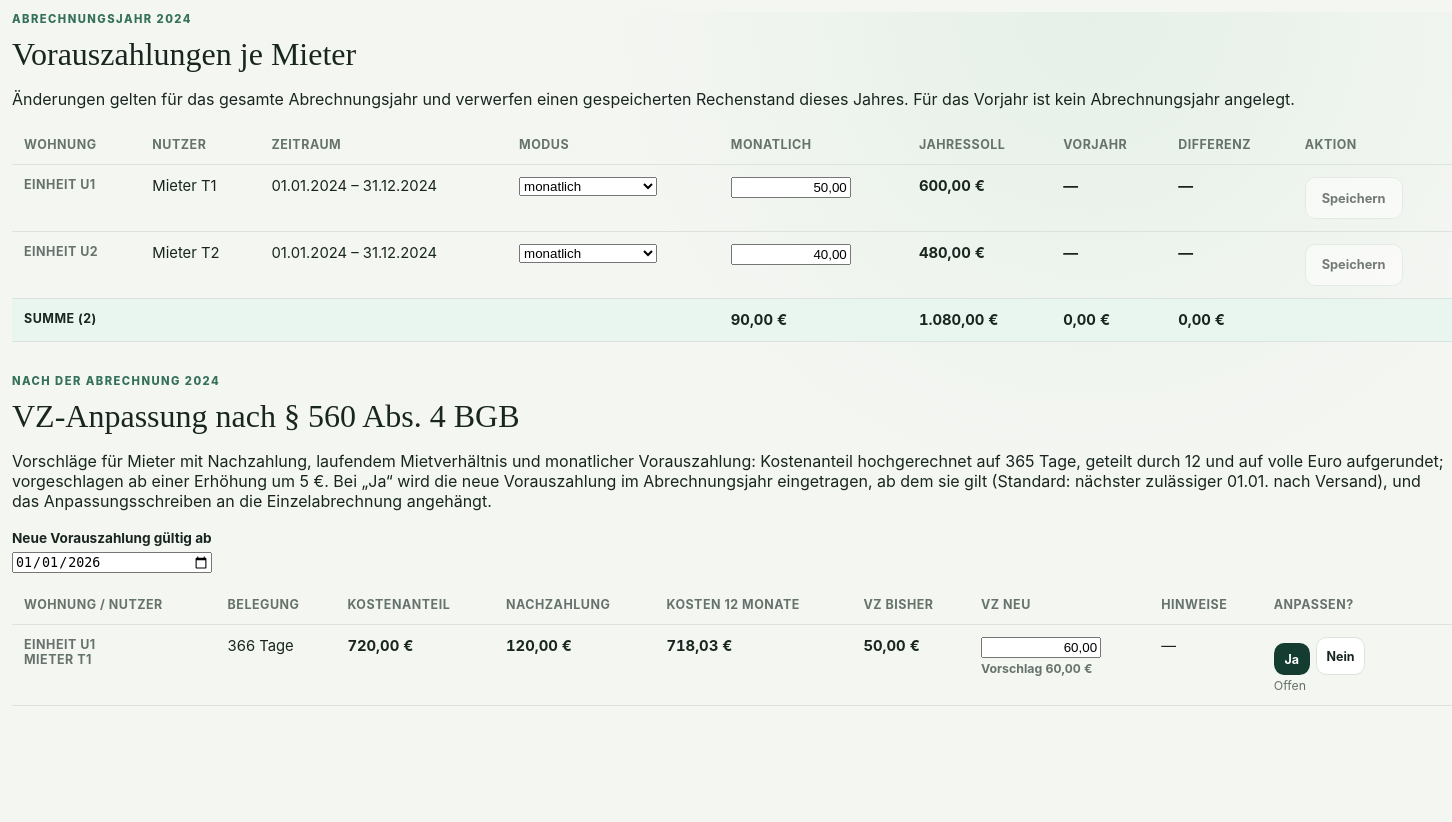
Test: PrepaymentsRoute – VZ-Anpassung › prüft Termin und Betrag und meldet gesperrte Folgejahre
Type "2025-01-15" into the date field labelled "Neue Vorauszahlung gültig ab" at (112, 562), box x1=12 y1=552 x2=212 y2=573
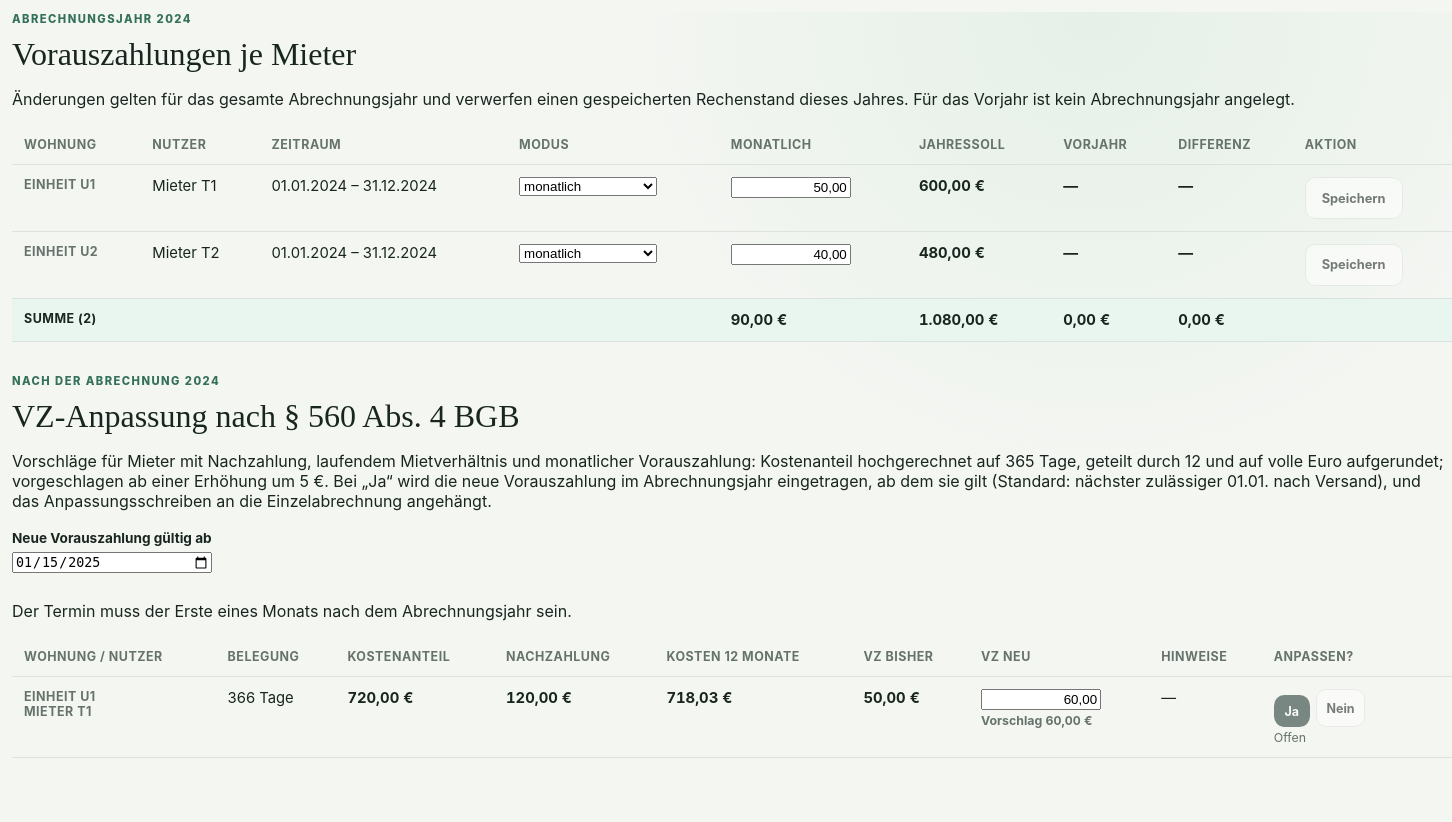
Result: the message shows "Erste eines Monats nach dem Abrechnungsjahr" at x1=12 y1=601 x2=572 y2=621
Result: the button with aria-label "Anpassung ja Einheit u1 Mieter T1" is disabled at x1=1274 y1=695 x2=1310 y2=727
Type "2025-06-01" into the date field labelled "Neue Vorauszahlung gültig ab" at (112, 562), box x1=12 y1=552 x2=212 y2=573
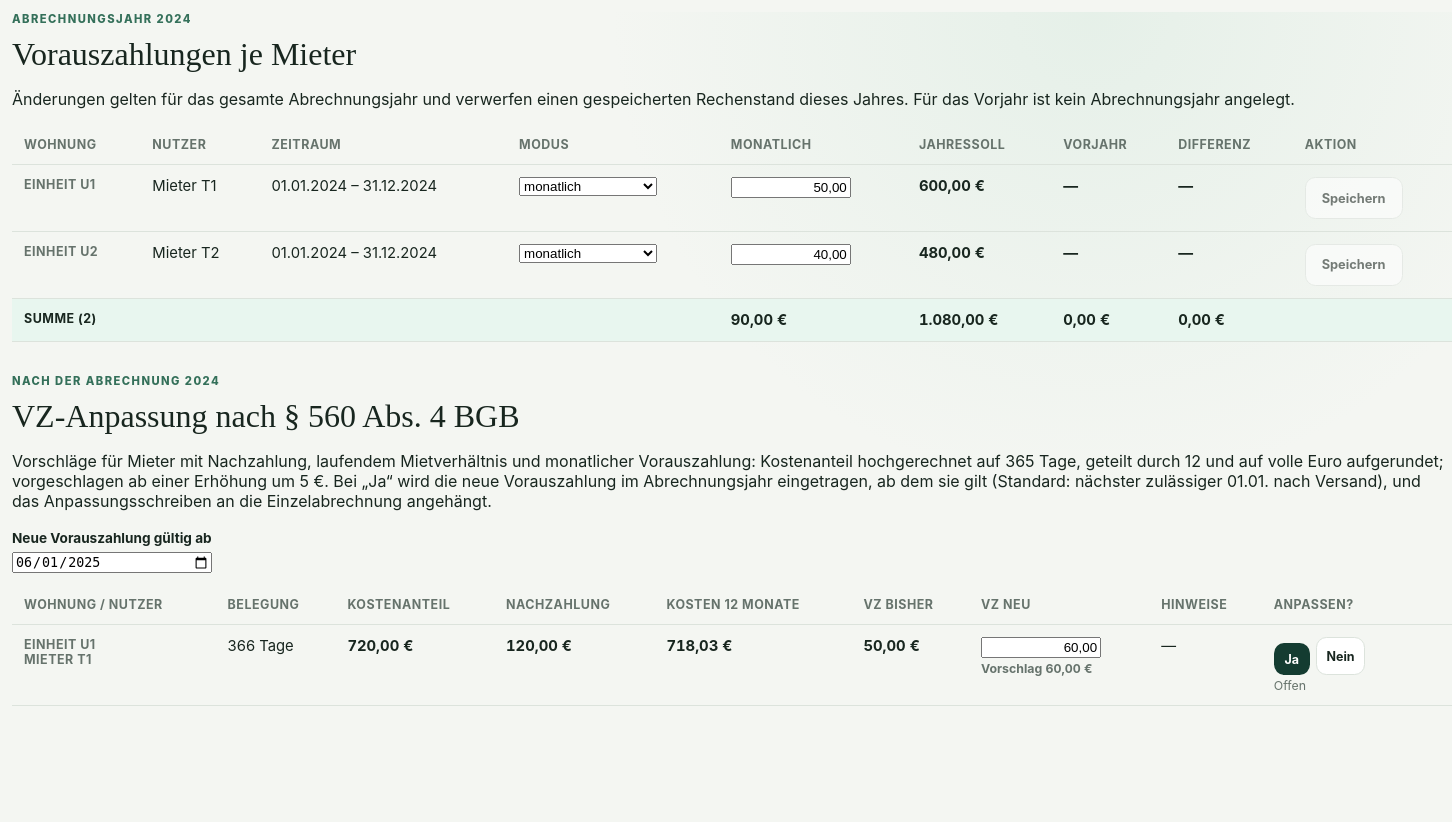
Expected: the text "Termin zu früh" is not shown
Replace the text in the field named "Neue Vorauszahlung Einheit u1 Mieter T1" with "x" at (1041, 647), box x1=981 y1=637 x2=1101 y2=658
Click the button with aria-label "Anpassung ja Einheit u1 Mieter T1" at (1292, 659), box x1=1274 y1=643 x2=1310 y2=675
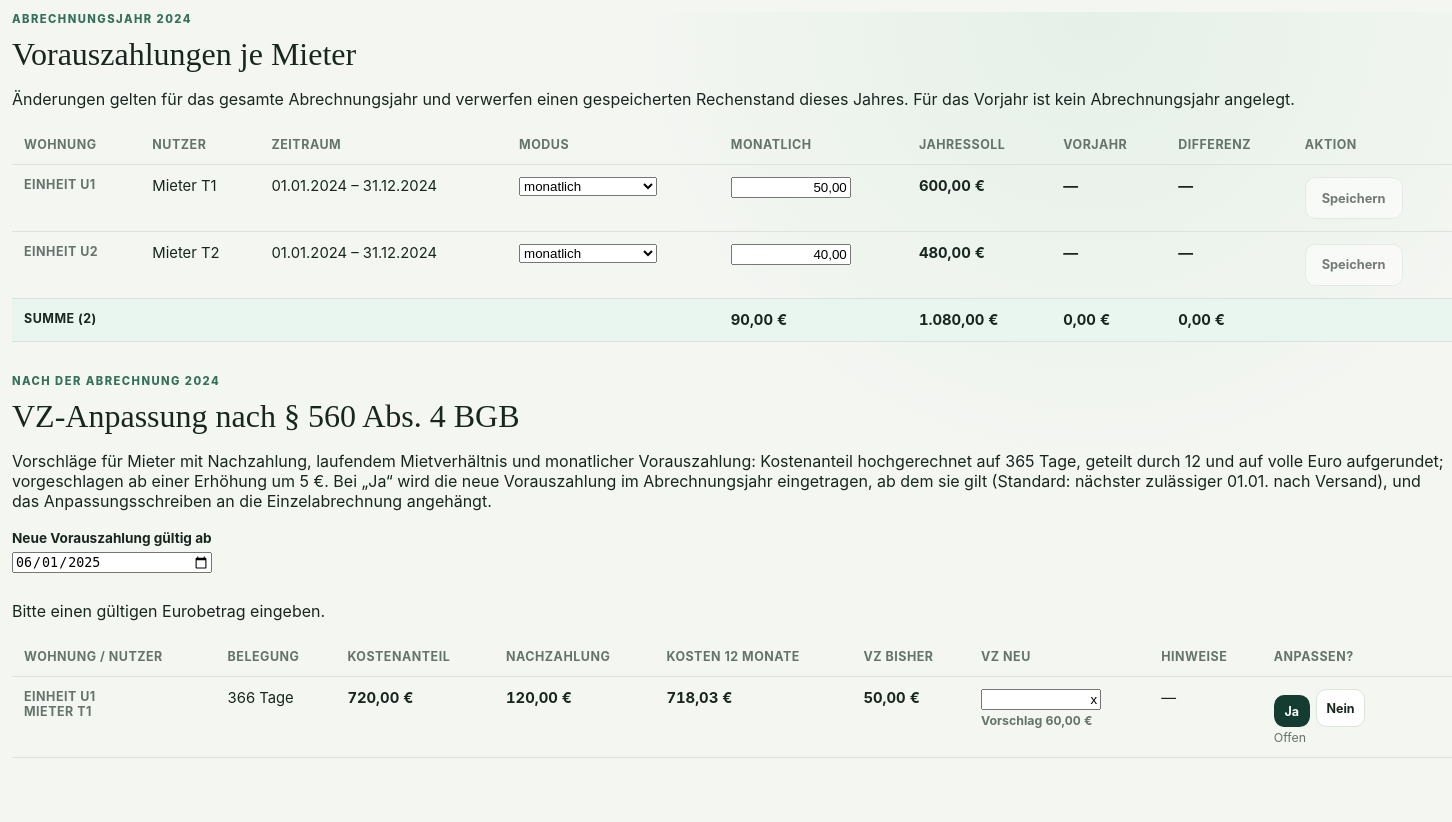
Result: the message shows "gültigen Eurobetrag" at x1=12 y1=601 x2=325 y2=621
Replace the text in the field named "Neue Vorauszahlung Einheit u1 Mieter T1" with "60" at (1041, 699), box x1=981 y1=689 x2=1101 y2=710
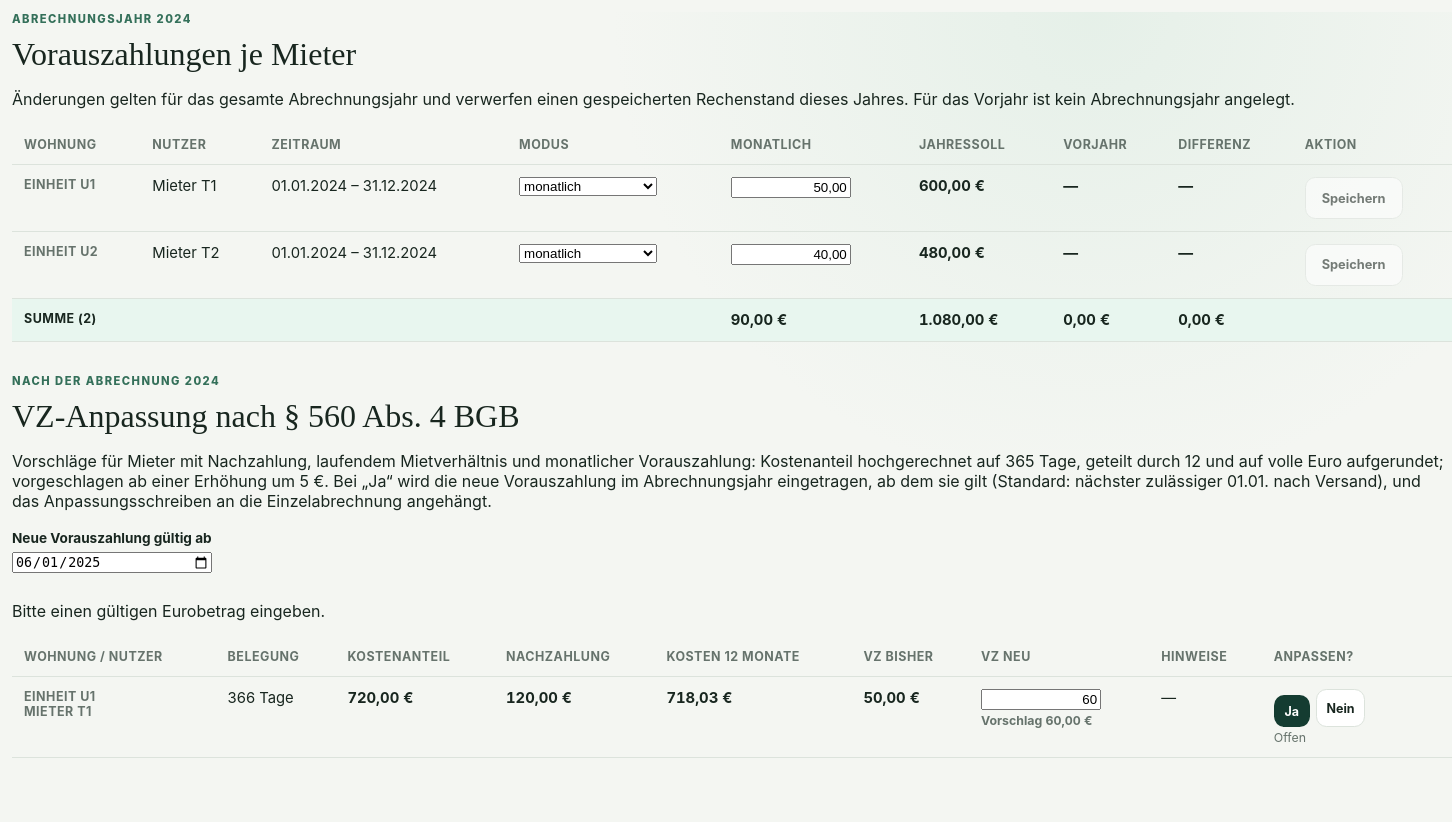
Type "2025-01-01" into the date field labelled "Neue Vorauszahlung gültig ab" at (112, 562), box x1=12 y1=552 x2=212 y2=573
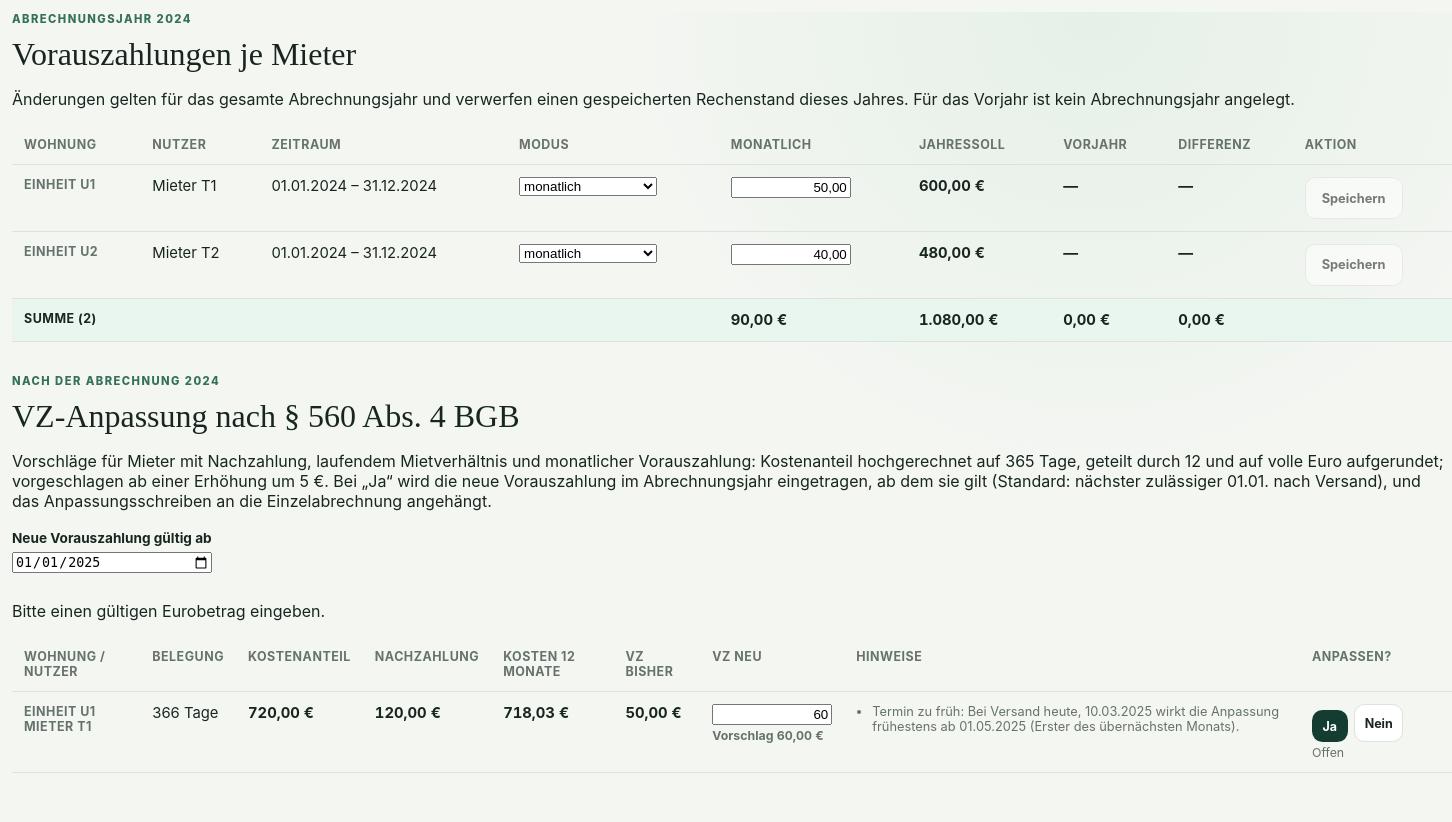
Click the button with aria-label "Anpassung ja Einheit u1 Mieter T1" at (1330, 726), box x1=1312 y1=710 x2=1348 y2=742
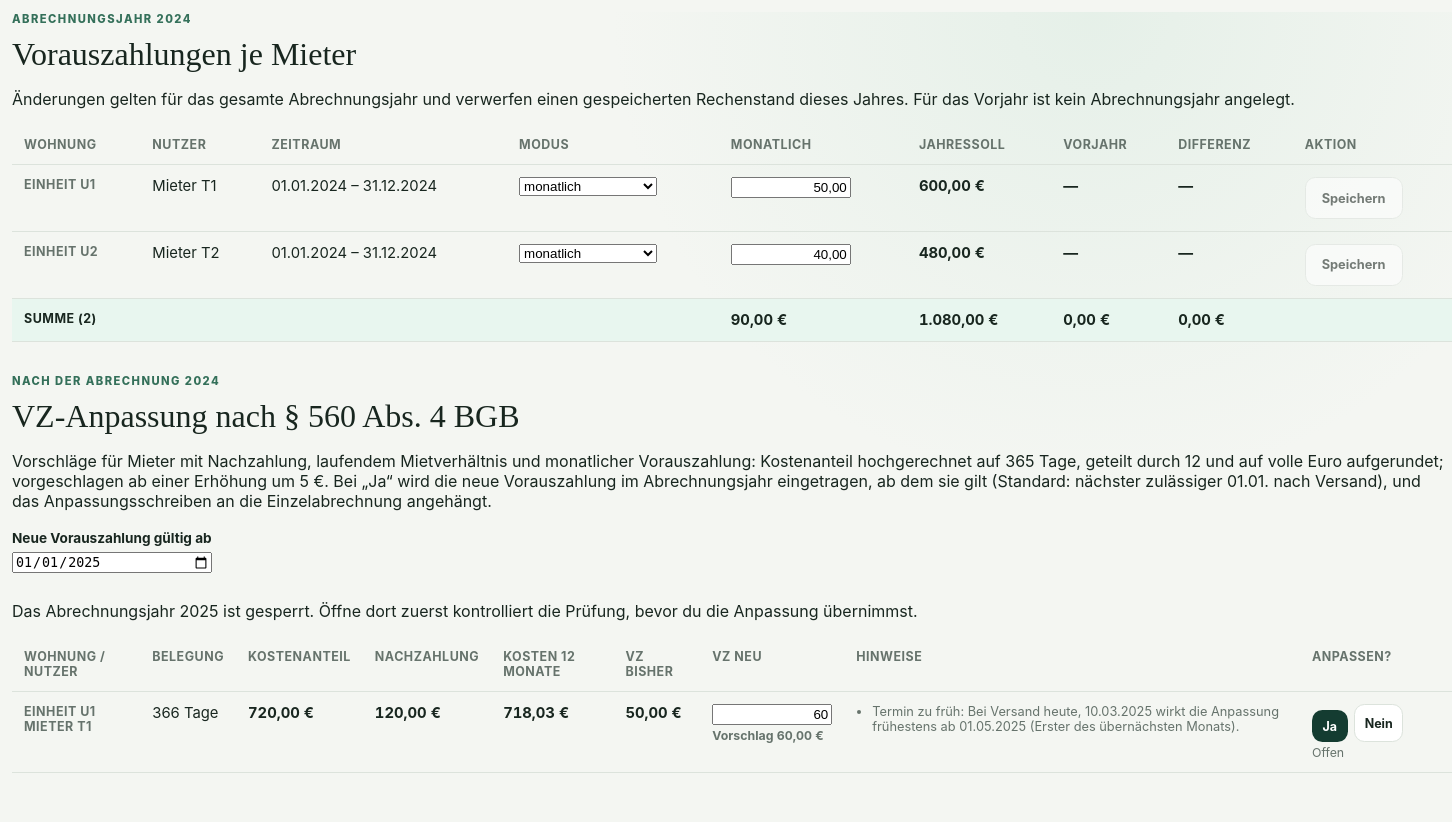
Result: the message shows "Abrechnungsjahr 2025 ist gesperrt" at x1=12 y1=601 x2=918 y2=621
